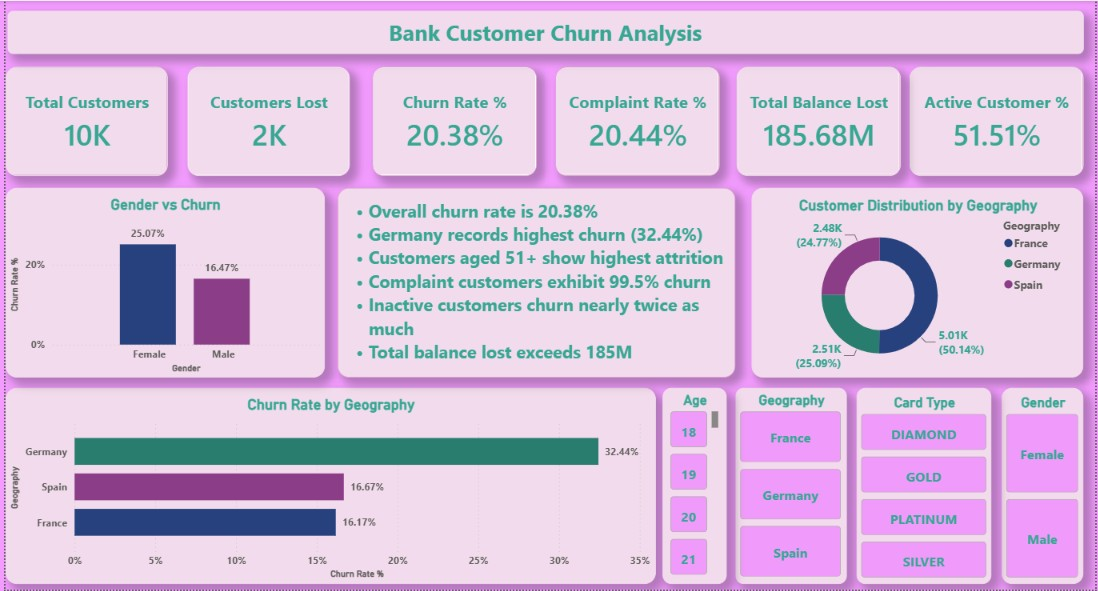

The page's visual inventory and layout, read from the dashboard file:
{"tool":"powerbi","page":{"name":"Executive Summary Dashboard","canvas":[1332,720],"ordinal":0},"visuals":[{"type":"cardVisual","fields":{"Data":["CountNonNull(Customer-Churn-Records.CustomerId)"]},"box":[0,80.7,198.1,133.3],"z":0},{"type":"cardVisual","title":"Churned Customers","fields":{"Data":["Sum(Customer-Churn-Records.Exited)"]},"box":[222.6,80.7,198.1,133.3],"z":1000},{"type":"cardVisual","fields":{"Data":["Avg(Customer-Churn-Records.Exited)"]},"box":[449,80.7,200.5,133.3],"z":2000},{"type":"cardVisual","fields":{"Data":["Avg(Customer-Churn-Records.IsActiveMember)"]},"box":[1105.4,80.7,212.8,133.3],"z":3000},{"type":"cardVisual","fields":{"Data":["Customer-Churn-Records.Total Balance Lost"]},"box":[894,80.7,200.5,133.3],"z":4000},{"type":"cardVisual","fields":{"Data":["Avg(Customer-Churn-Records.Complain)"]},"box":[673,80.7,200.5,133.3],"z":5000},{"type":"clusteredBarChart","title":"Churn Rate by Geography","fields":{"Category":["Customer-Churn-Records.Geography"],"Y":["Avg(Customer-Churn-Records.Exited)"]},"box":[0,473.2,794.8,239.7],"z":6000},{"type":"donutChart","title":"Customer Distribution by Geography","fields":{"Category":["Customer-Churn-Records.Geography"],"Y":["CountNonNull(Customer-Churn-Records.CustomerId)"]},"box":[912.2,228.7,406,232.3],"z":7000},{"type":"clusteredColumnChart","title":"Gender vs Churn","fields":{"Category":["Customer-Churn-Records.Gender"],"Y":["Avg(Customer-Churn-Records.Exited)"]},"box":[0,228.7,390.1,232.3],"z":8000},{"type":"textbox","box":[406,228.7,486.7,232.3],"z":10000},{"type":"advancedSlicerVisual","fields":{"Values":["Customer-Churn-Records.Geography"]},"box":[892.7,473.2,135.7,239.7],"z":11000},{"type":"advancedSlicerVisual","fields":{"Values":["Customer-Churn-Records.Gender"]},"box":[1217.9,473.2,100.3,239.7],"z":12000},{"type":"advancedSlicerVisual","fields":{"Values":["Customer-Churn-Records.Age"]},"box":[803.4,473.2,78.3,239.7],"z":13000},{"type":"advancedSlicerVisual","fields":{"Values":["Customer-Churn-Records.Card Type"]},"box":[1040.6,473.2,165.1,239.7],"z":14000},{"type":"textbox","box":[2.4,12.2,1315.8,52.6],"z":15000}]}

Visuals, with their boxes in screenshot pixels (x1, y1, x2, y2), scaled from the page's 1332x720 canvas onto the 1098x591 screenshot:
cardVisual - CountNonNull(Customer-Churn-Records.CustomerId): region(0, 66, 163, 176)
"Churned Customers" cardVisual: region(183, 66, 347, 176)
cardVisual - Avg(Customer-Churn-Records.Exited): region(370, 66, 535, 176)
cardVisual - Avg(Customer-Churn-Records.IsActiveMember): region(911, 66, 1087, 176)
cardVisual - Customer-Churn-Records.Total Balance Lost: region(737, 66, 902, 176)
cardVisual - Avg(Customer-Churn-Records.Complain): region(555, 66, 720, 176)
"Churn Rate by Geography" clusteredBarChart: region(0, 388, 655, 585)
"Customer Distribution by Geography" donutChart: region(752, 188, 1087, 378)
"Gender vs Churn" clusteredColumnChart: region(0, 188, 322, 378)
textbox: region(335, 188, 736, 378)
advancedSlicerVisual - Customer-Churn-Records.Geography: region(736, 388, 848, 585)
advancedSlicerVisual - Customer-Churn-Records.Gender: region(1004, 388, 1087, 585)
advancedSlicerVisual - Customer-Churn-Records.Age: region(662, 388, 727, 585)
advancedSlicerVisual - Customer-Churn-Records.Card Type: region(858, 388, 994, 585)
textbox: region(2, 10, 1087, 53)
